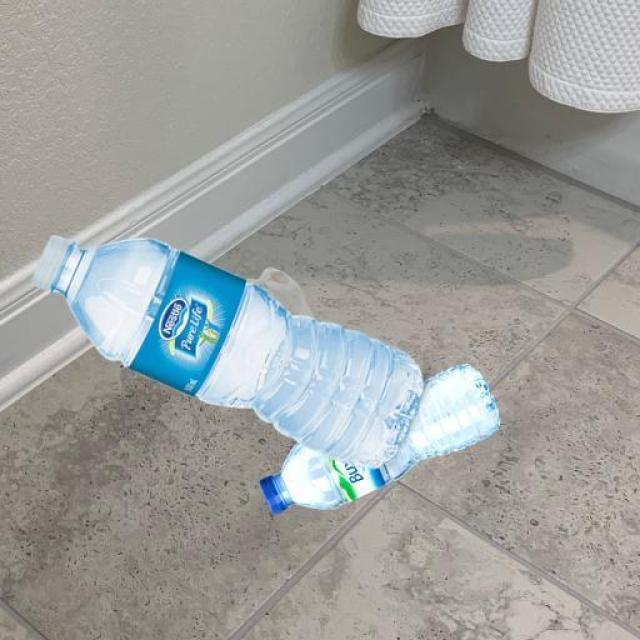bottle: (26, 206, 432, 474), (249, 359, 505, 520)
